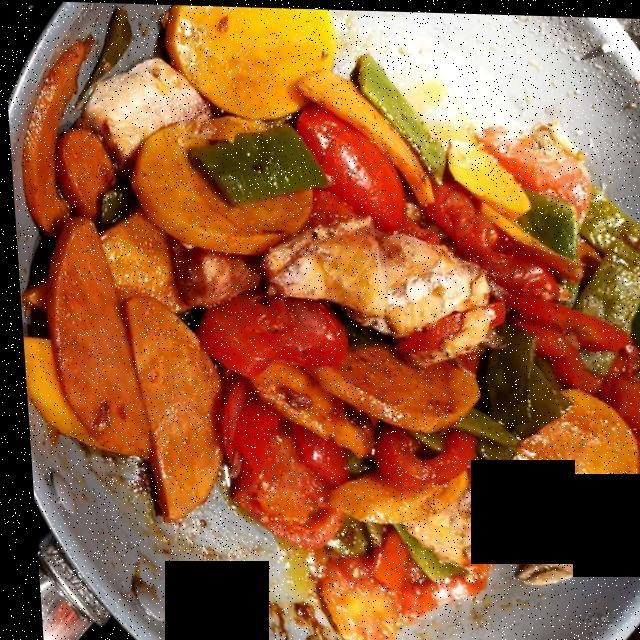mixed-vegetables: (25, 6, 640, 640)
